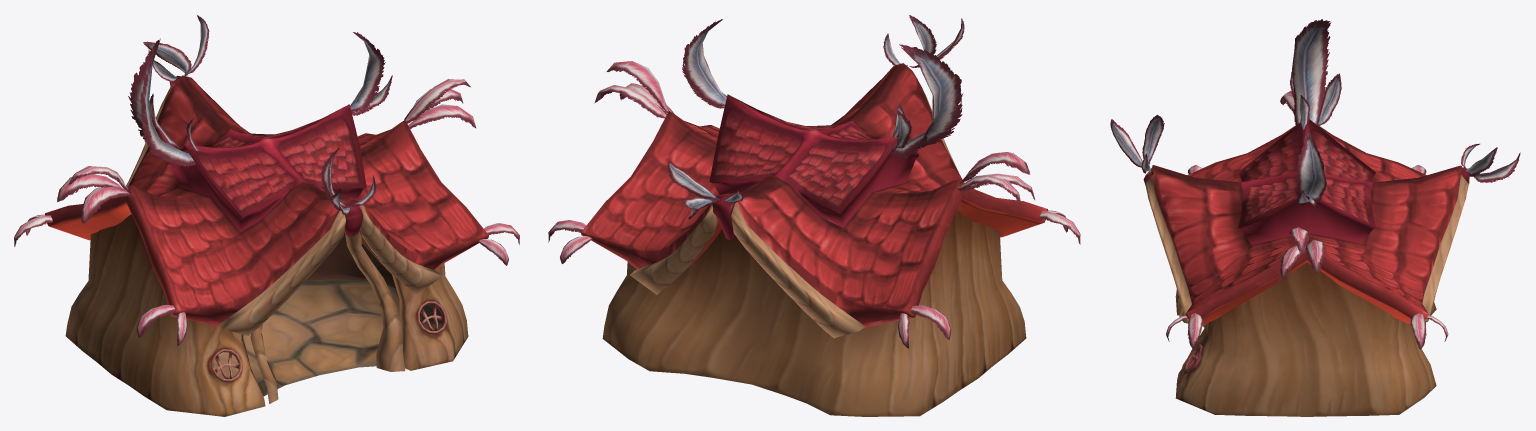
File: Druid House.fbx
The picture shows the model from 3 angles, left to right: view 1: azimuth 30°, elevation 25°; view 2: azimuth 150°, elevation 25°; view 3: azimuth 270°, elevation 25°; orthographic projection. The views are drawn at different scales.
Parts seen in each view (by area): view 1: Druid House; view 2: Druid House; view 3: Druid House.
Boxes of the visible parts, x1,y1,x2,y2 form: Druid House: (14,15,519,416); Druid House: (548,15,1080,416); Druid House: (1110,19,1520,416).
Bounding box in the file's own units: 10.5 × 7.72 × 10.1.
2 materials, 2 textured.
